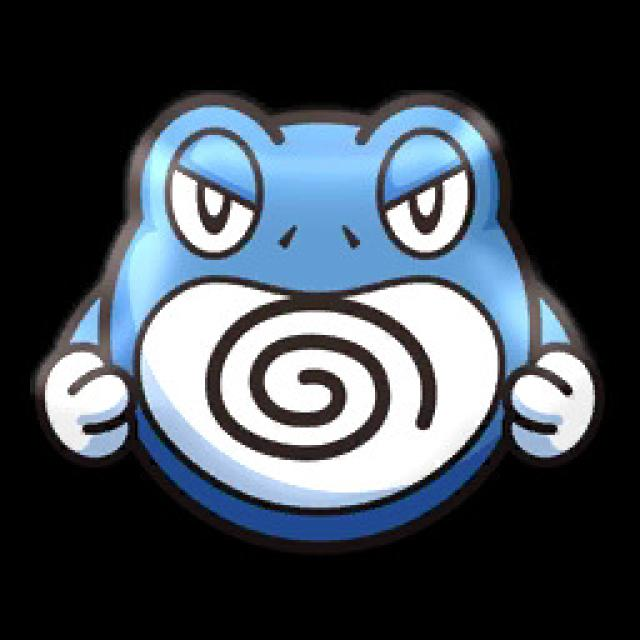Poliwrath: (81, 93, 583, 518)
